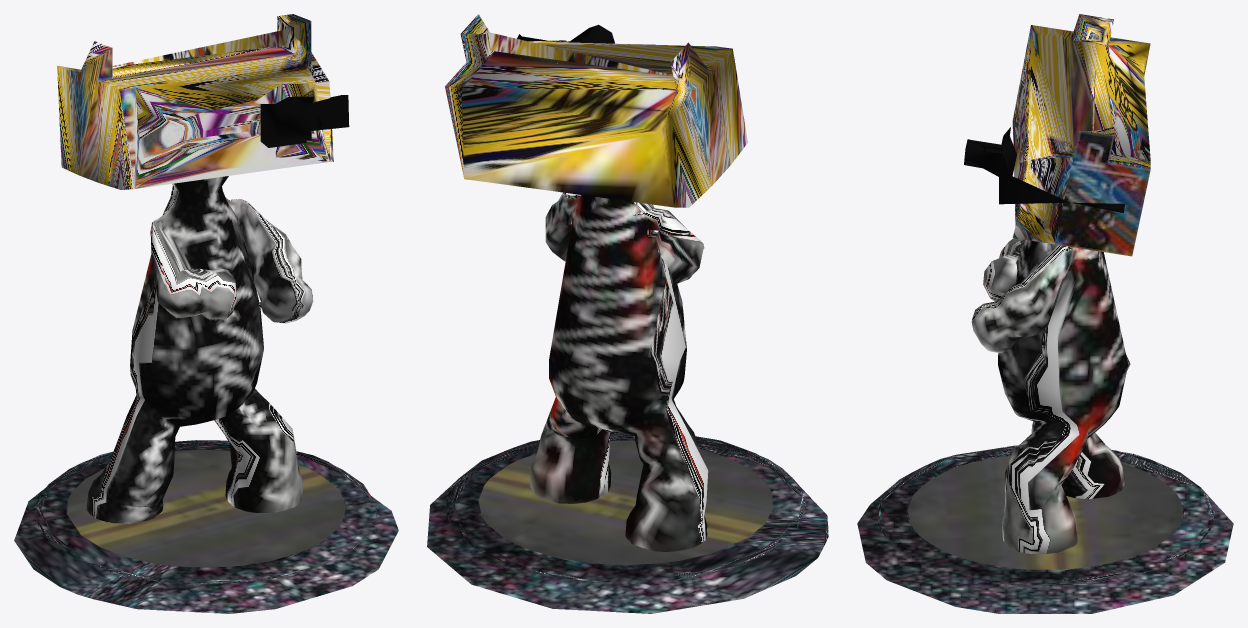
3 views of the same model, side by side, from view 1: azimuth 30°, elevation 25°; view 2: azimuth 150°, elevation 25°; view 3: azimuth 270°, elevation 25° (orthographic). The views are drawn at different scales.
Size of the model in its own units: 1.42 by 2.04 by 1.43.
Materials: 5 (4 with a texture image).
